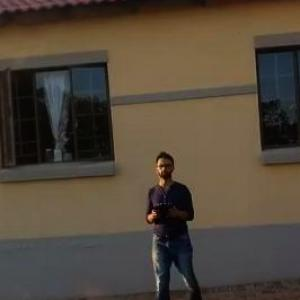follow: (140, 144, 207, 299)
